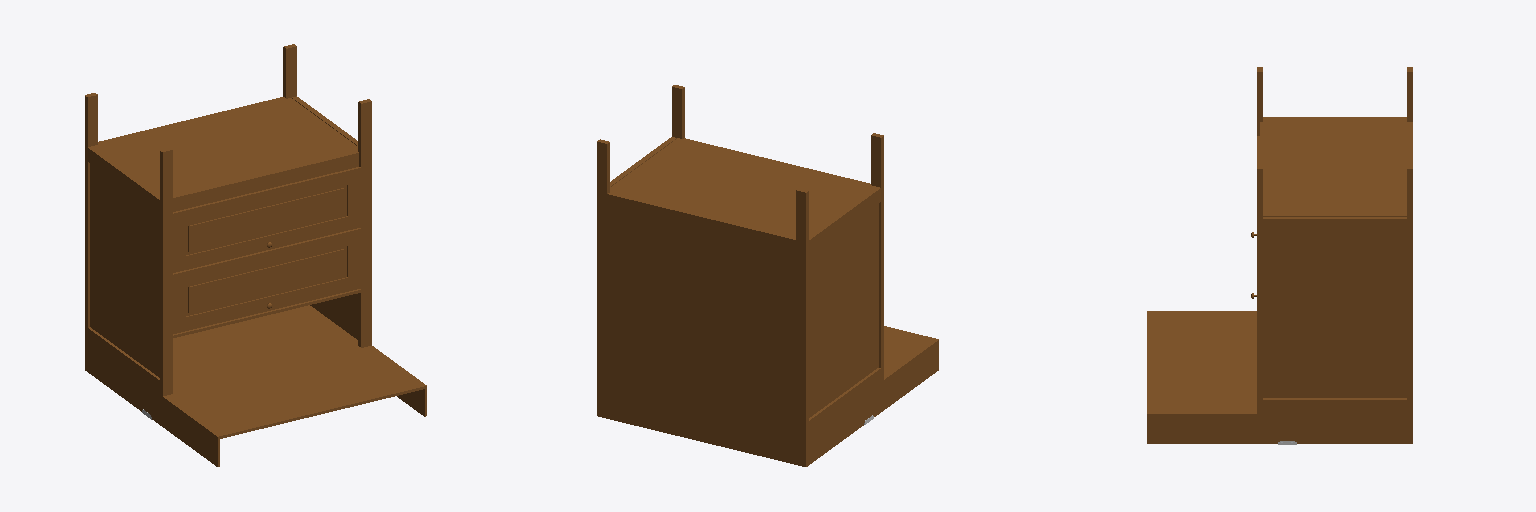
Rendered from ChangingTable_SundvikBrown.obj.
The picture shows the model from 3 angles: view 1: azimuth 30°, elevation 25°; view 2: azimuth 150°, elevation 25°; view 3: azimuth 270°, elevation 25°; orthographic projection.
Visible parts, largest first — view 1: obj_0; view 2: obj_0; view 3: obj_0.
Boxes of the visible parts, x1=… form: obj_0: x1=85, y1=44, x2=426, y2=466; obj_0: x1=597, y1=85, x2=938, y2=466; obj_0: x1=1147, y1=67, x2=1412, y2=444.
Bounding box in the file's own units: 79.3 × 99.2 × 87.